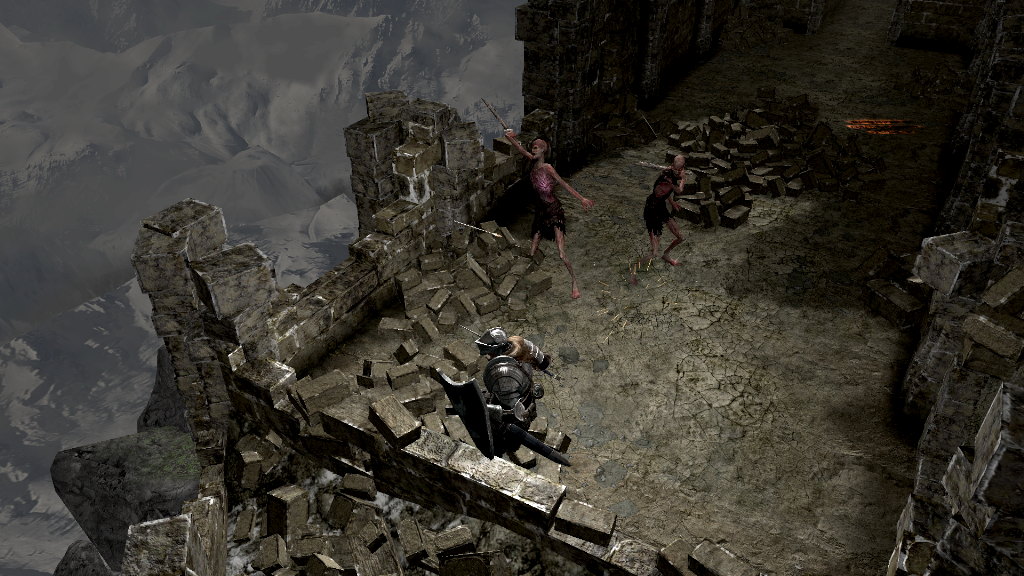hollow: (501, 130, 594, 301), (629, 154, 688, 285)
player: (432, 326, 550, 472)
